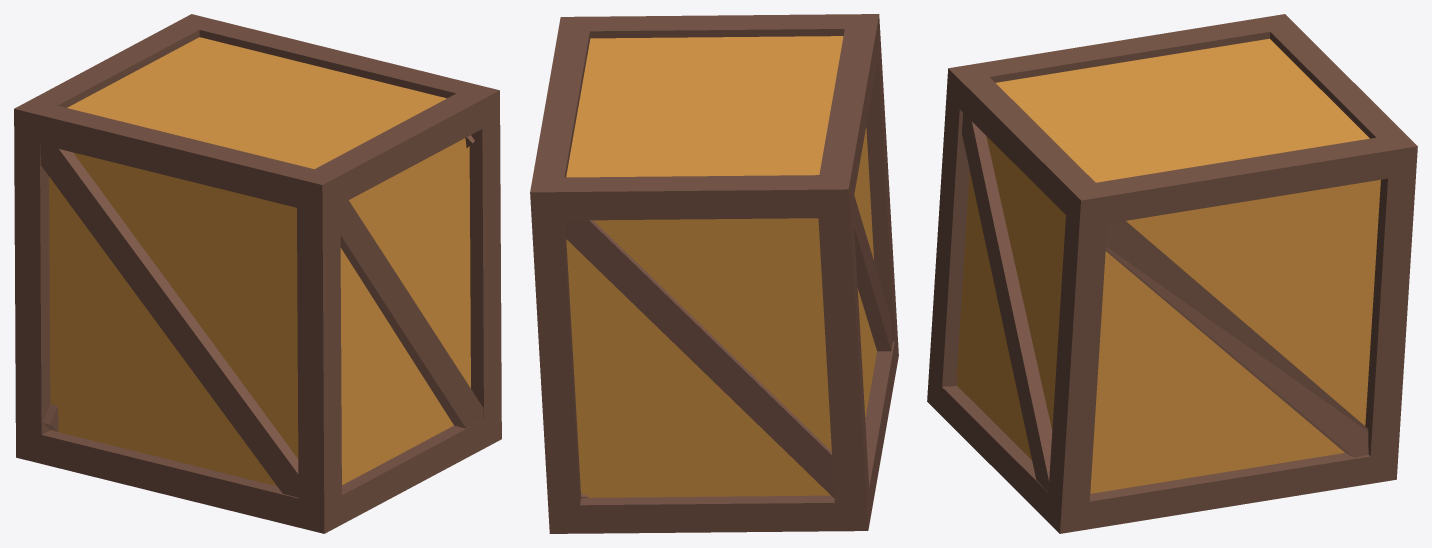
Rendered from crate-by-zacharylll-c0wzLR88z_1.glb.
3 renders of one model, left to right at view 1: azimuth 30°, elevation 25°; view 2: azimuth 150°, elevation 25°; view 3: azimuth 270°, elevation 25°, orthographic. The views are drawn at different scales.
Parts seen in each view (by area): view 1: group329106156; view 2: group329106156; view 3: group329106156.
Part boxes in pixels (left/top/right/bottom): group329106156: left=14, top=14, right=501, bottom=533; group329106156: left=530, top=14, right=898, bottom=533; group329106156: left=927, top=14, right=1417, bottom=533.
Bounding box in the file's own units: 0.5799 × 0.5174 × 0.6311.
